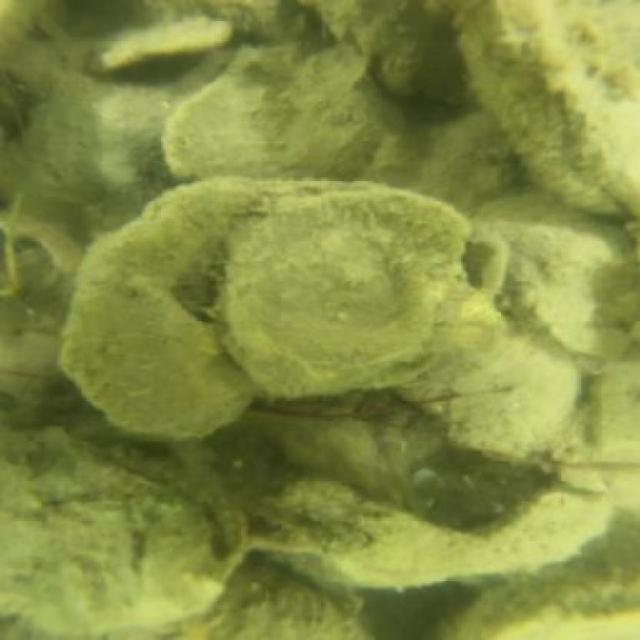Oyster- Indeterminate: (208, 189, 511, 387), (63, 178, 252, 438), (0, 435, 239, 633), (163, 50, 383, 177)
Oyster-Closed: (464, 1, 636, 214)
